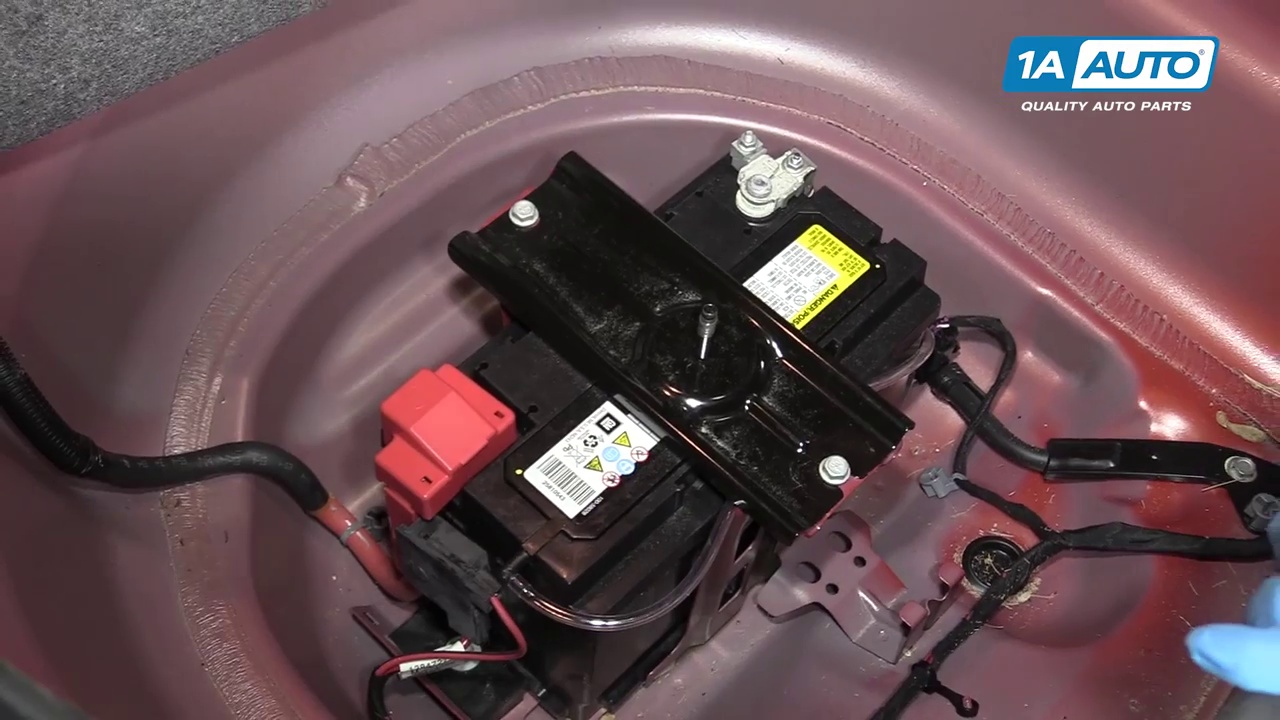battery: (412, 140, 926, 606)
neg_connected: (700, 133, 837, 239)
pos_connected: (353, 352, 518, 527)
